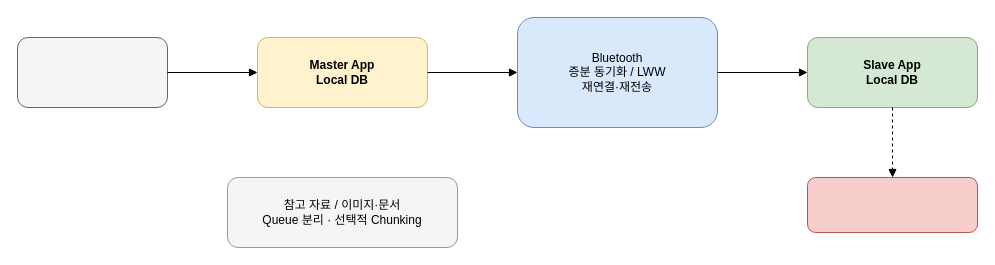
The diagram is 995 pixels wide and 265 high, and some of its shapes have lost their labels. Each missing label, with the centre of its shape:
Optimistic UI: the point at 892,204
Server API: the point at 92,72
